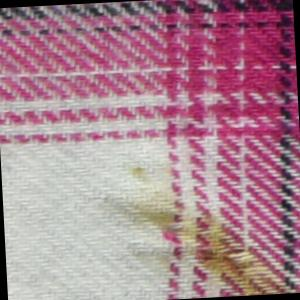Damage: (185, 224, 265, 286)
Oil Stain: (100, 153, 297, 300)
